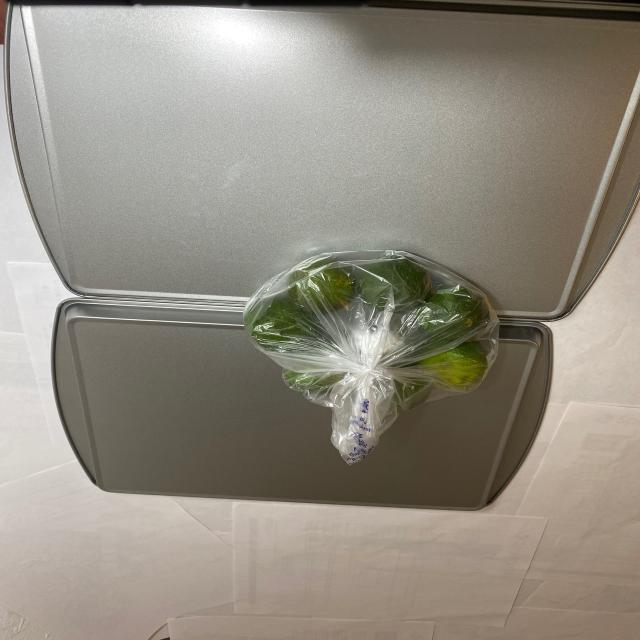lemon: (244, 250, 490, 410)
